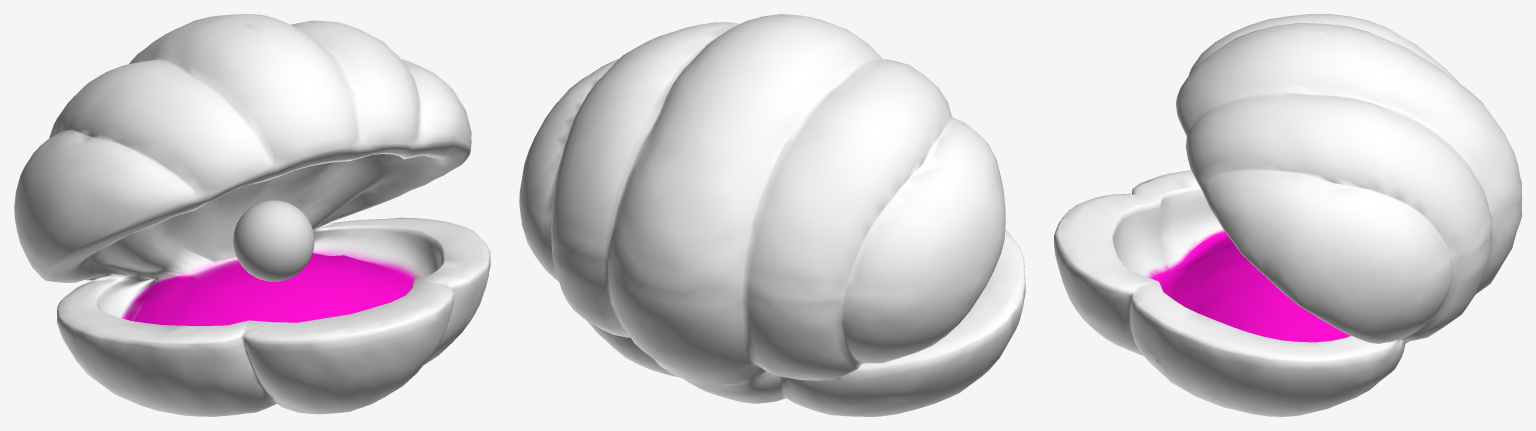
The model's file is commonshell.glb.
3 views of the same model, side by side, from view 1: azimuth 30°, elevation 25°; view 2: azimuth 150°, elevation 25°; view 3: azimuth 270°, elevation 25° (orthographic). The views are drawn at different scales.
Visible parts, largest first — view 1: Mesh1.0, Sphere.001; view 2: Mesh1.0; view 3: Mesh1.0.
Boxes of the visible parts, <box> form: Mesh1.0: <box>14,14,490,416</box>; Sphere.001: <box>233,200,314,281</box>; Mesh1.0: <box>519,14,1025,416</box>; Mesh1.0: <box>1054,14,1521,416</box>.
Bounding box in the file's own units: 1.91 × 1.48 × 1.89.
2 materials, 1 textured.
